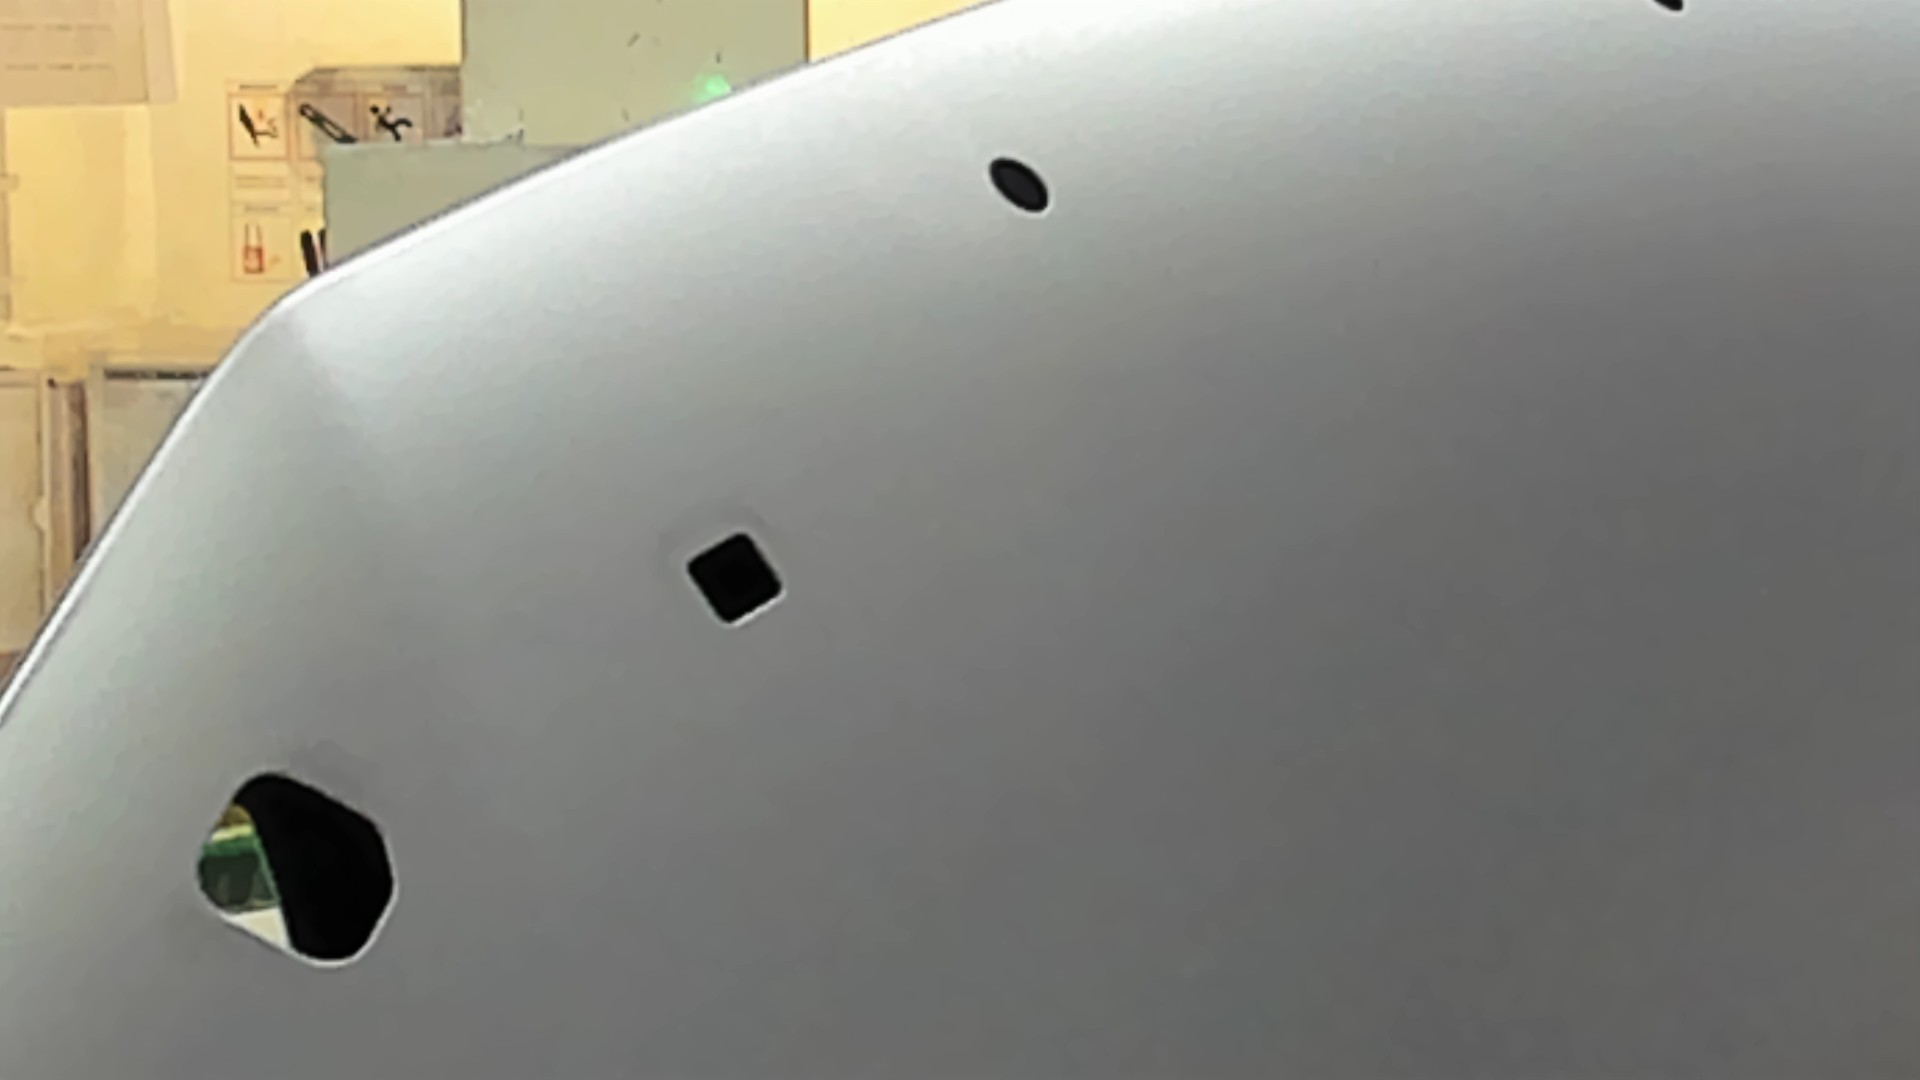chico: (975, 144, 1069, 229)
grande: (178, 761, 421, 977)
mediano: (670, 527, 804, 633)
